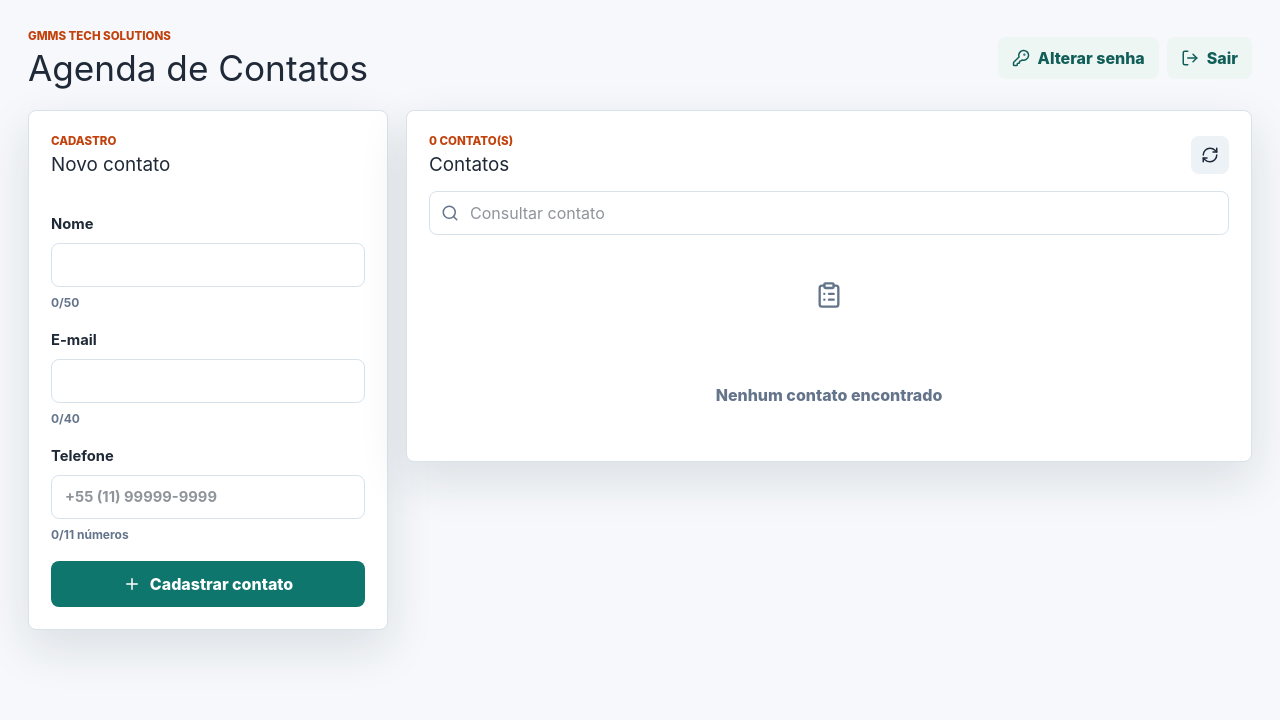
ContactsView › cadastra um contato pelo formulário usando a store do Pinia
Type "Ana Silva" into the field labelled "Nome 0/50".
click(208, 265); type("Ana Silva")  # box [51,243,365,287]
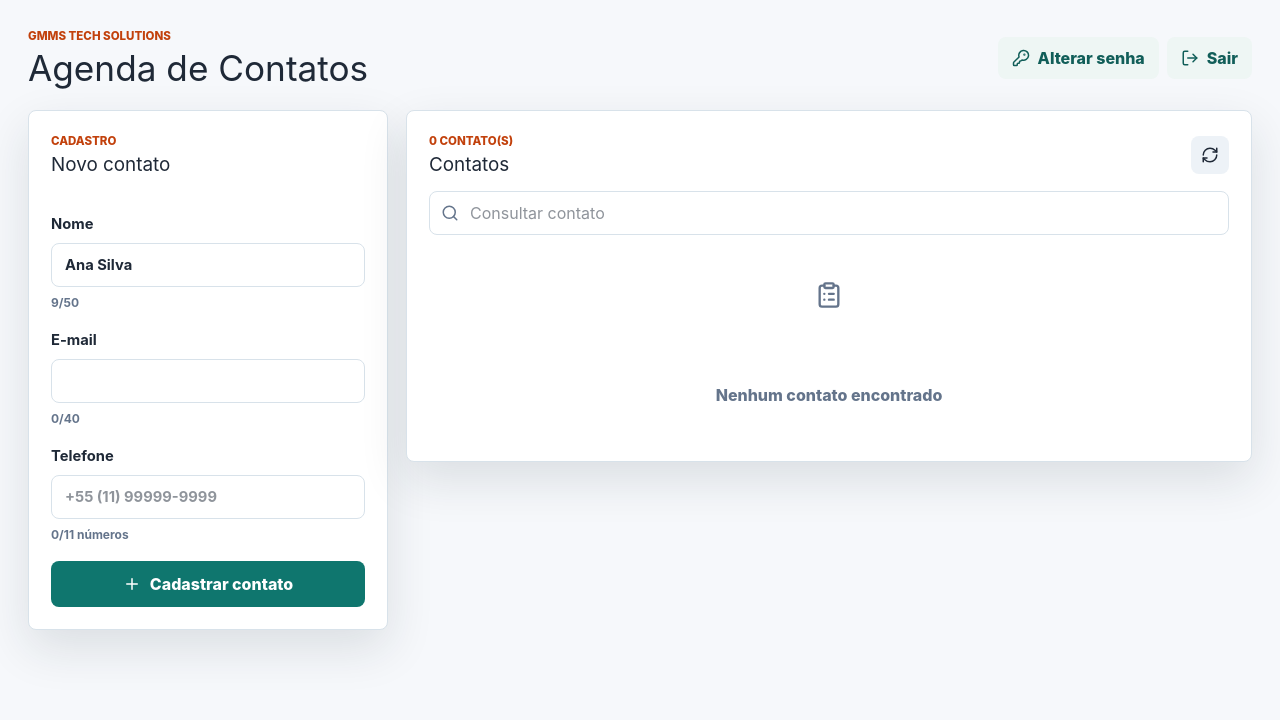
Type "ana@email.com" into the field labelled "E-mail 0/40".
click(208, 381); type("ana@email.com")  # box [51,359,365,403]
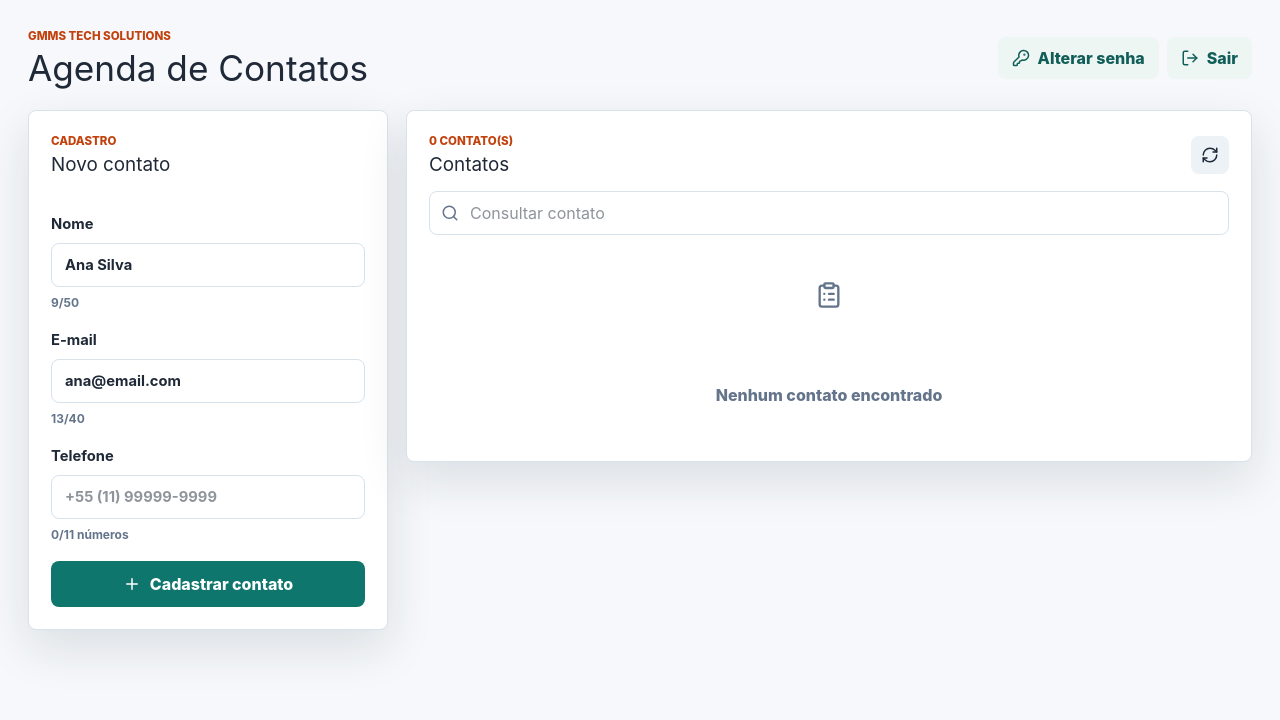
Type "81997236704" into the field labelled "Telefone 0/11 números".
click(208, 497); type("81997236704")  # box [51,475,365,519]
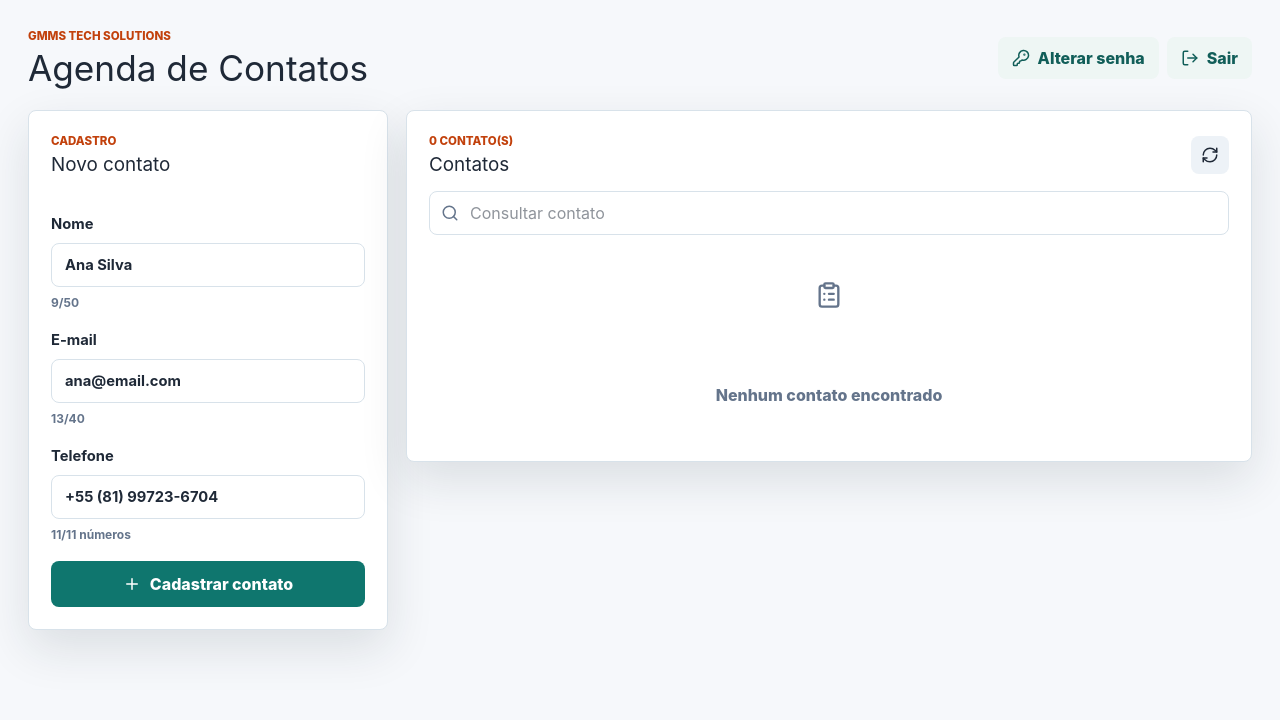
Expected: the number of fields is 3, [51,243,365,287]; [51,359,365,403]; [51,475,365,519]
Expected: the field labelled "Telefone 11/11 números" holds "+55 (81) 99723-6704", [51,475,365,519]
Expected: the text "11/11 números" is shown, [51,527,131,542]
Submit the form with class "contact-form", box [28,110,388,630]
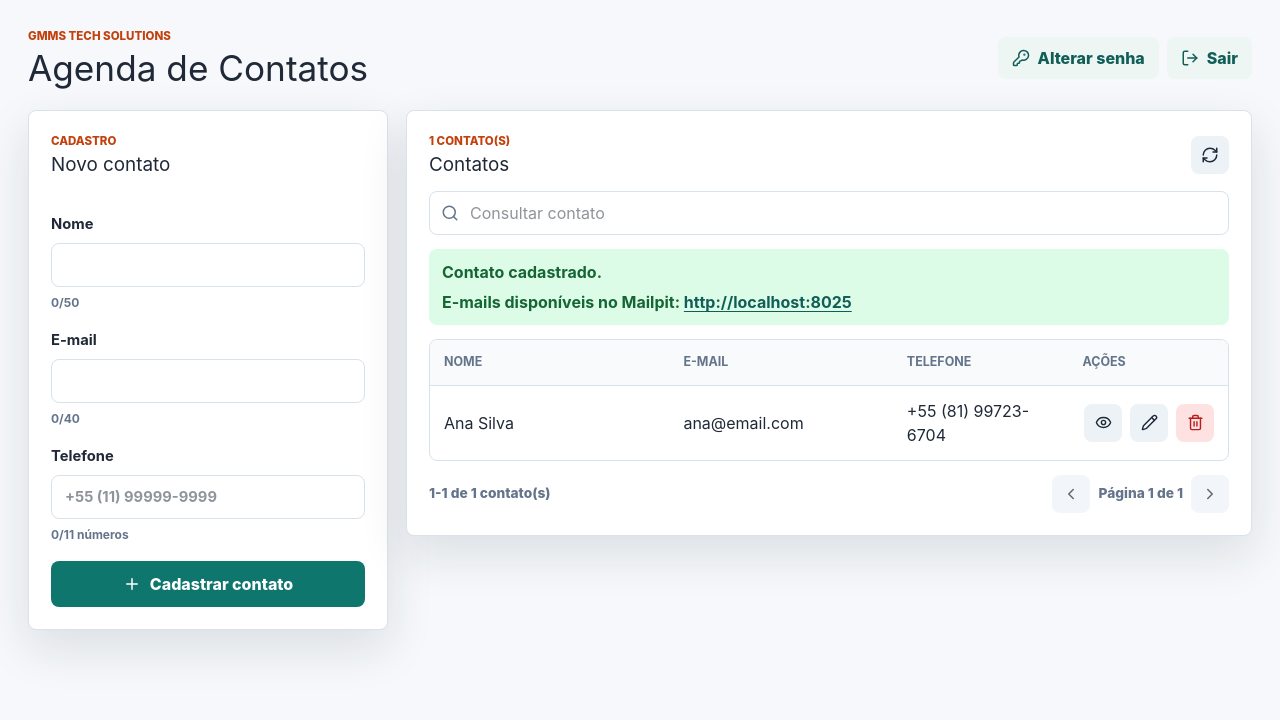
Expected: the text "Contato cadastrado." is shown, [442,262,602,282]
Expected: the text "Ana Silva" is shown, [430,385,669,460]
Expected: the text "+55 (81) 99723-6704" is shown, [893,385,1068,460]
